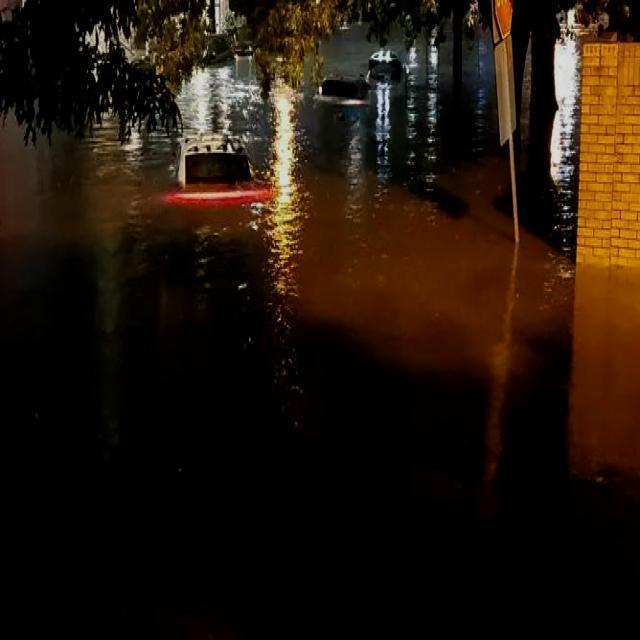water: (0, 50, 639, 636), (177, 53, 299, 234), (550, 35, 580, 257), (321, 23, 378, 78)
